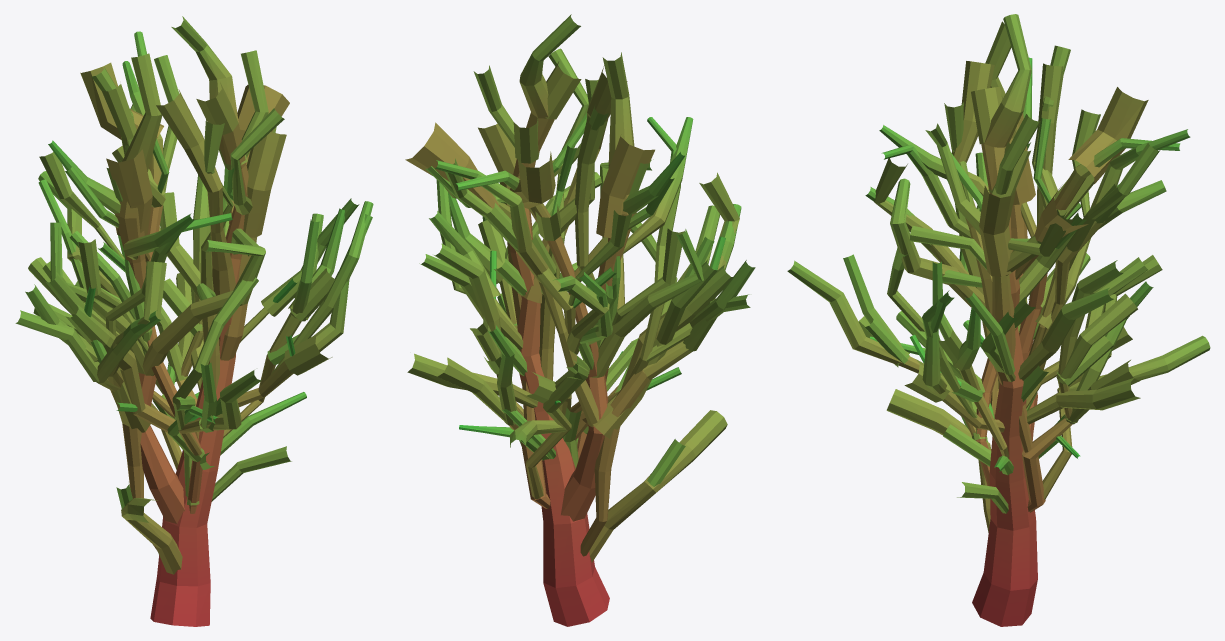
File: 137_tree.glb
3 views of the same model, side by side, from view 1: azimuth 30°, elevation 25°; view 2: azimuth 150°, elevation 25°; view 3: azimuth 270°, elevation 25° (orthographic).
Visible parts, largest first — view 1: model; view 2: model; view 3: model.
Boxes of the visible parts, box(x1,y1,x2,y2) form: model: box(15, 16, 373, 626); model: box(405, 14, 755, 626); model: box(787, 14, 1210, 626).
Size of the model in its own units: 4.67 by 8.09 by 5.15.
